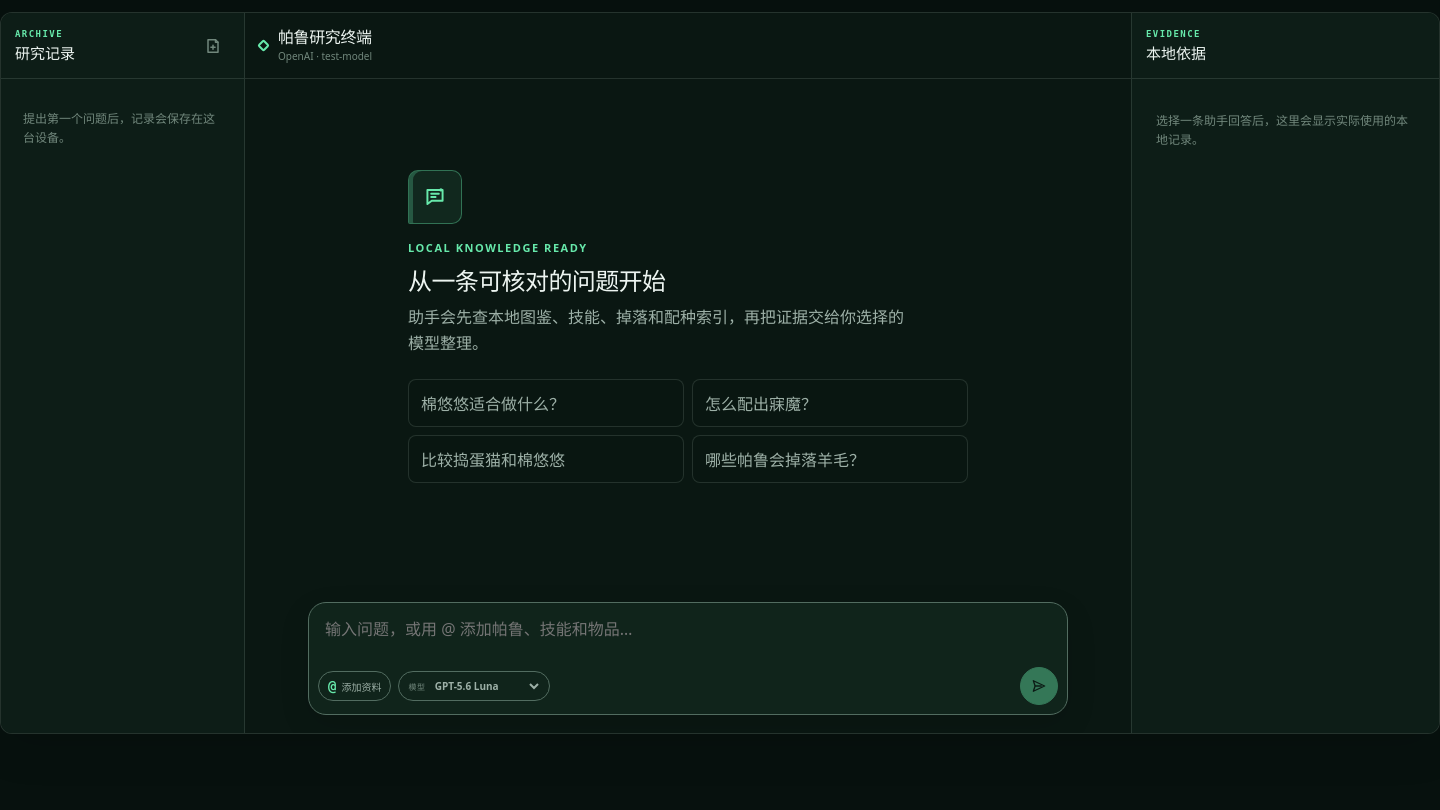
Test case: AssistantPage › only exposes the shortcut hint while the textarea is focused
Expected: the text "Enter 换行" is not shown
Click the text box named "向帕鲁助手提问".
click(688, 629)  # box x1=309 y1=603 x2=1067 y2=655
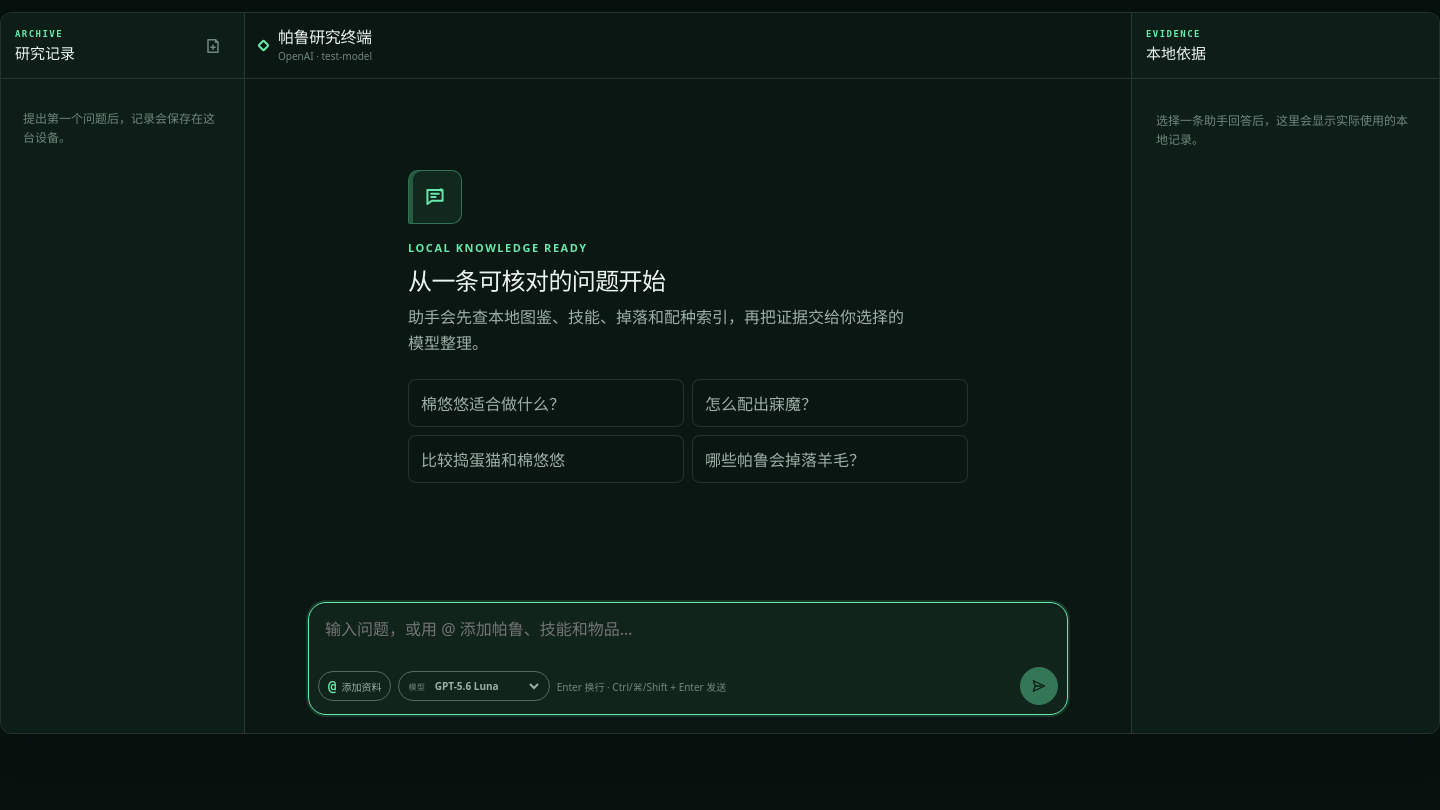
Expected: the text "Enter 换行 · Ctrl/⌘/Shift + Enter 发送" is shown, x1=557 y1=678 x2=726 y2=694
Leave the text box named "向帕鲁助手提问", box x1=309 y1=603 x2=1067 y2=655
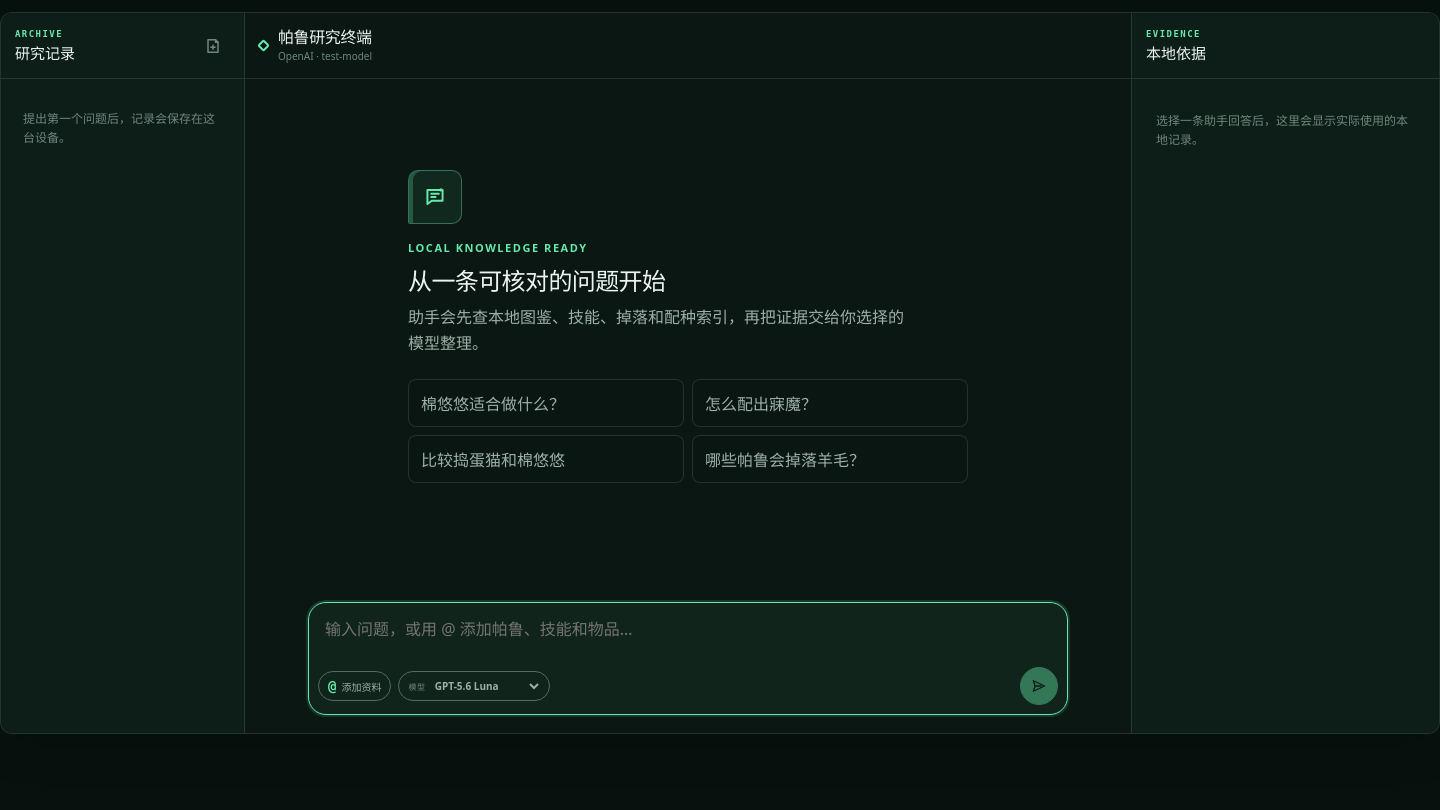
Expected: the text "Enter 换行" is gone
